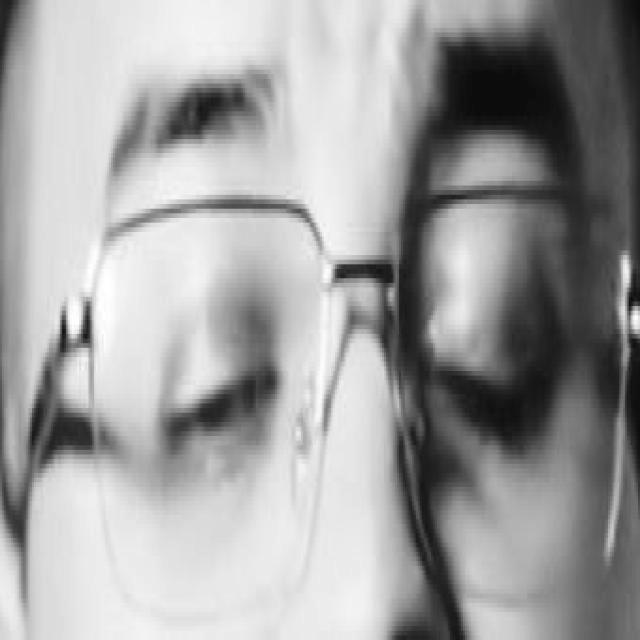real: (124, 222, 604, 541)
